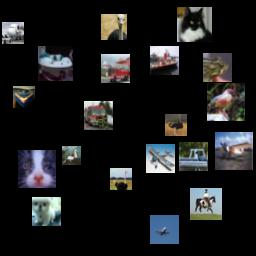airplane: (215, 132, 253, 170), (146, 144, 175, 173), (150, 215, 179, 244), (2, 22, 24, 44)
bird: (207, 83, 245, 121), (101, 14, 127, 40), (165, 114, 187, 136), (110, 168, 132, 190)
cat: (18, 150, 56, 188), (177, 7, 212, 42)
dog: (32, 197, 61, 226)
frog: (203, 53, 232, 82)
ship: (38, 46, 73, 81), (179, 142, 208, 171), (150, 46, 179, 75), (13, 86, 35, 108)
truck: (84, 101, 113, 130), (101, 54, 130, 83)
